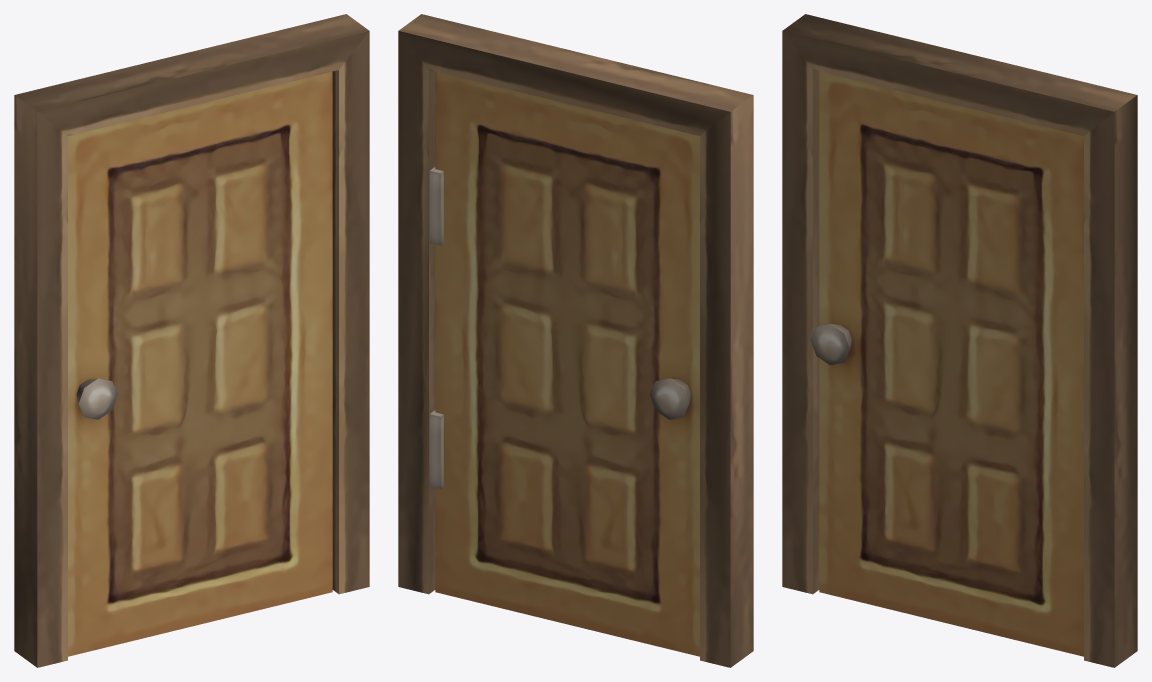
File: Private Dwelling Door 1_HD.fbx
3 renders of one model, left to right at view 1: azimuth 30°, elevation 25°; view 2: azimuth 150°, elevation 25°; view 3: azimuth 330°, elevation 25°, orthographic.
Visible parts, largest first — view 1: door, flame; view 2: door, flame; view 3: door, flame.
Boxes of the visible parts, <box> form: door: <box>68,71,332,656</box>; flame: <box>14,14,369,667</box>; door: <box>435,71,699,656</box>; flame: <box>398,14,753,667</box>; door: <box>810,71,1083,656</box>; flame: <box>782,14,1137,667</box>.
Bounding box in the file's own units: 1 × 1.6 × 0.2106.
